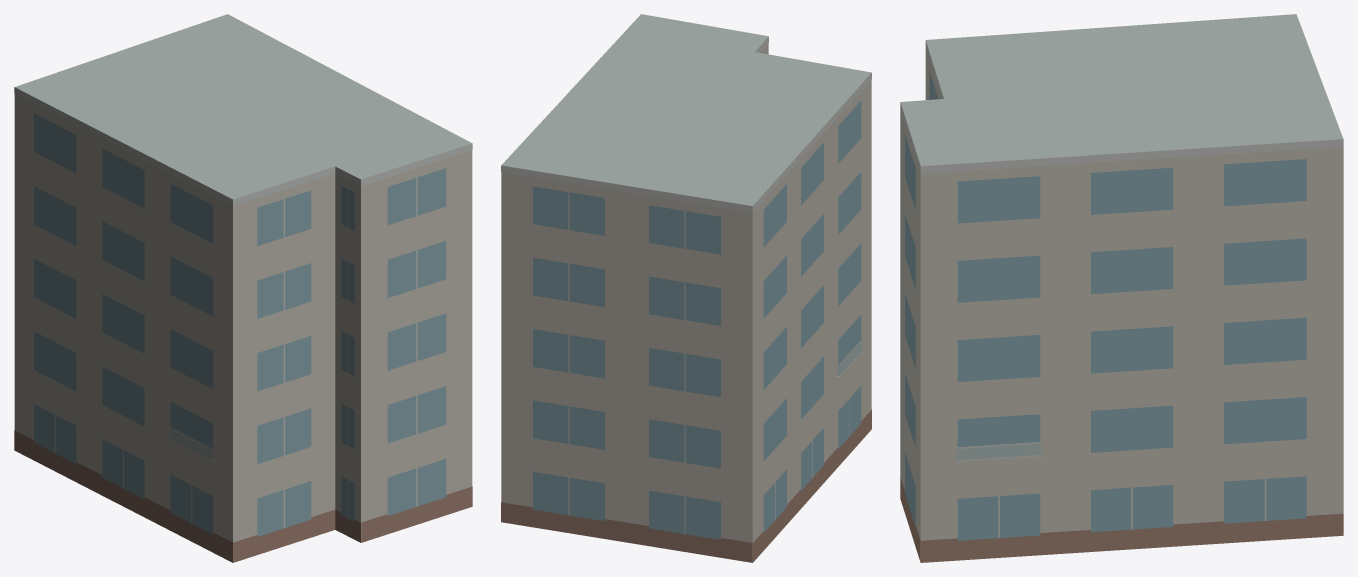
File: survey-upis-32714464.glb
3 renders of one model, left to right at view 1: azimuth 30°, elevation 25°; view 2: azimuth 150°, elevation 25°; view 3: azimuth 270°, elevation 25°, orthographic. The views are drawn at different scales.
Parts seen in each view (by area): view 1: survey-upis-32714464.tmp; view 2: survey-upis-32714464.tmp; view 3: survey-upis-32714464.tmp.
Boxes of the visible parts, x1,y1,x2,y2 form: survey-upis-32714464.tmp: (14, 14, 472, 562); survey-upis-32714464.tmp: (501, 14, 871, 562); survey-upis-32714464.tmp: (900, 14, 1343, 562).
Size of the model in its own units: 10.8 by 13.1 by 13.28.
